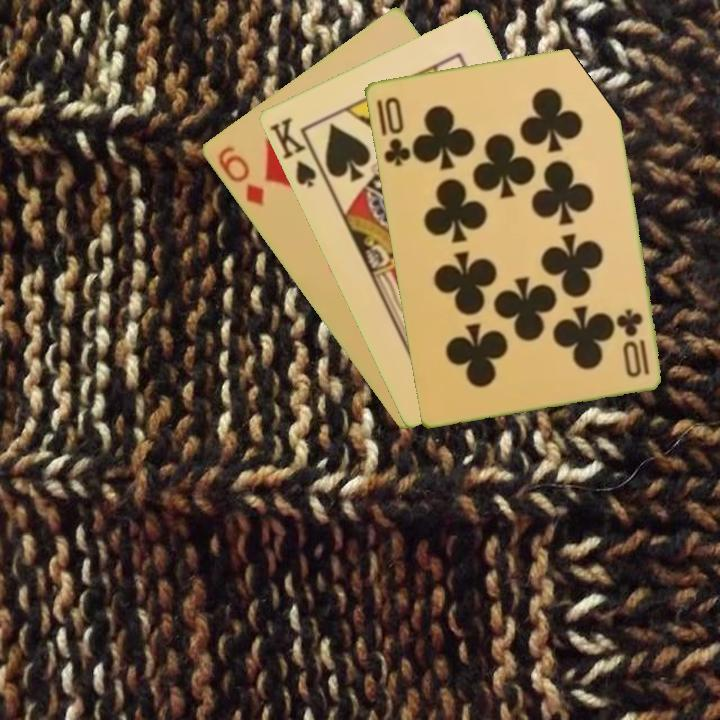10c: (614, 305, 652, 378), (380, 93, 413, 169)
6d: (213, 142, 267, 209)
Ks: (265, 113, 319, 191)
